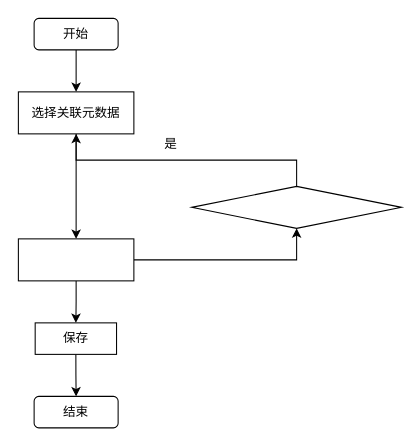
The diagram is 420 pixels wide and 446 high, and some of its shapes have lost their labels. Here are the shapes that lost their labels. From the top down, the box of each, then its label:
(191, 185, 402, 228): 是否取消选择
(17, 238, 134, 281): 进入已选择关联列表
